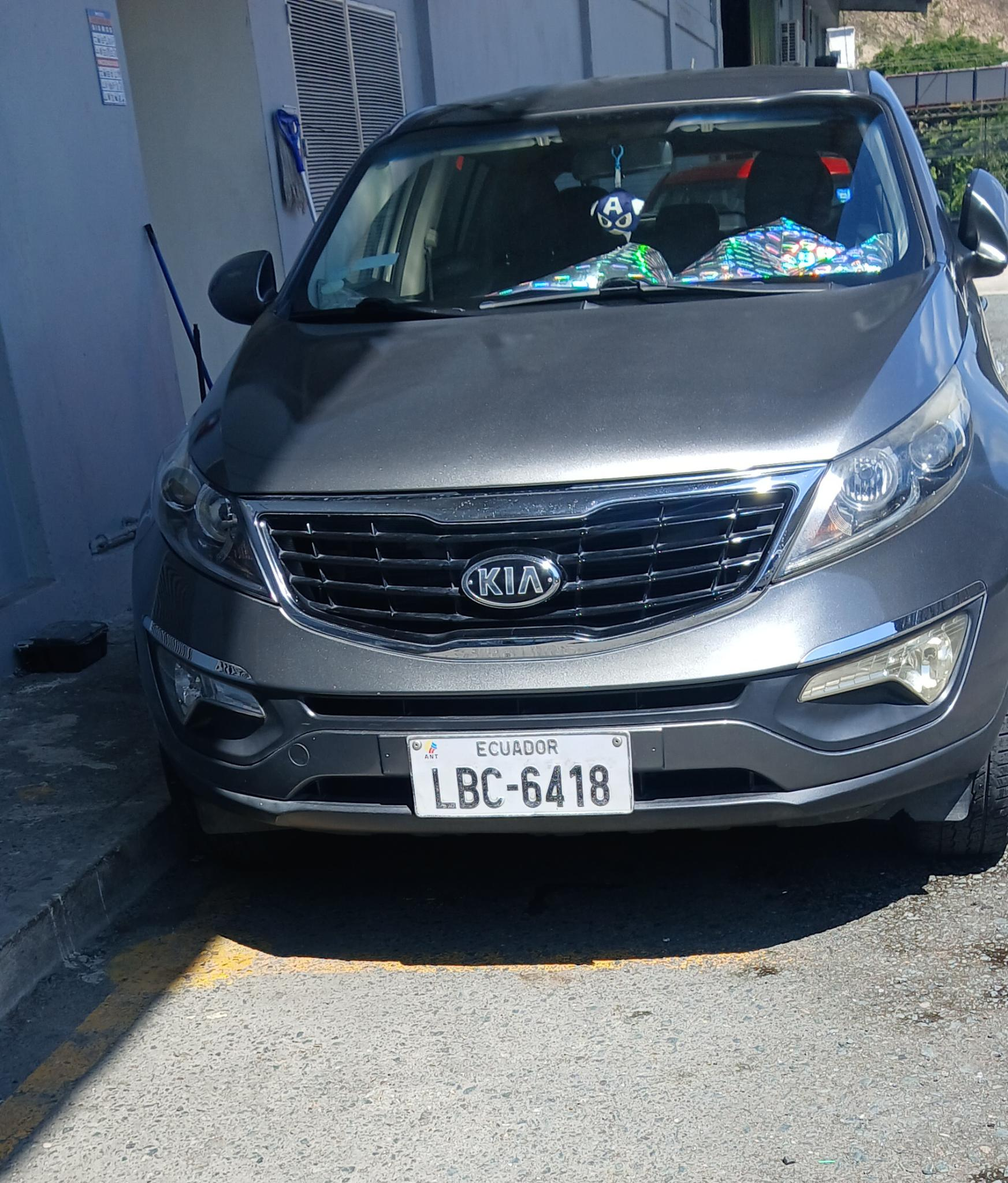license_plate: (407, 732, 632, 816)
